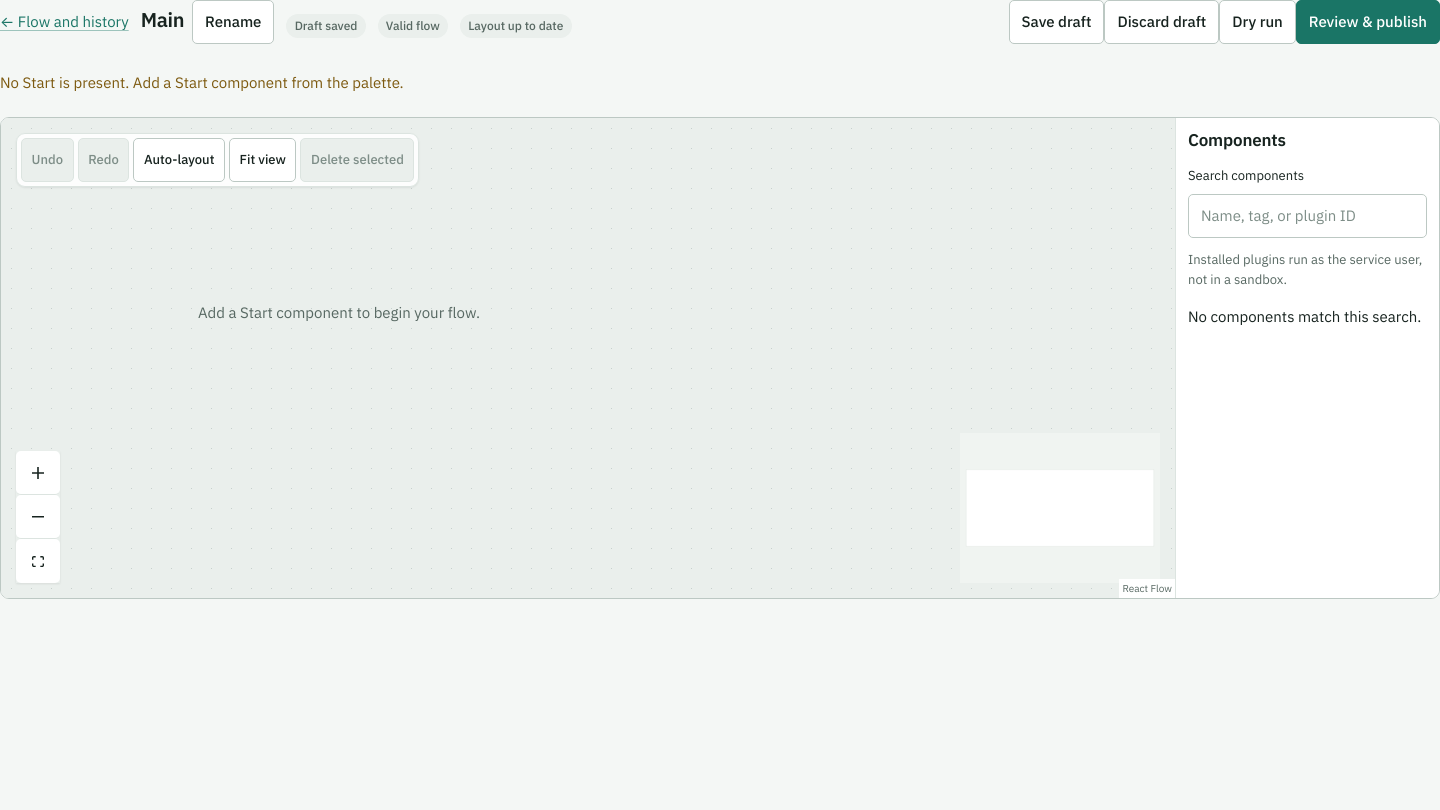
FlowEditor publish › clears the notice when the draft is saved, and a later clean publish shows none
This screenshot has width=1440, height=810.
Click the button "Review & publish". click: (1368, 22)
box: [1296,0,1439,44]
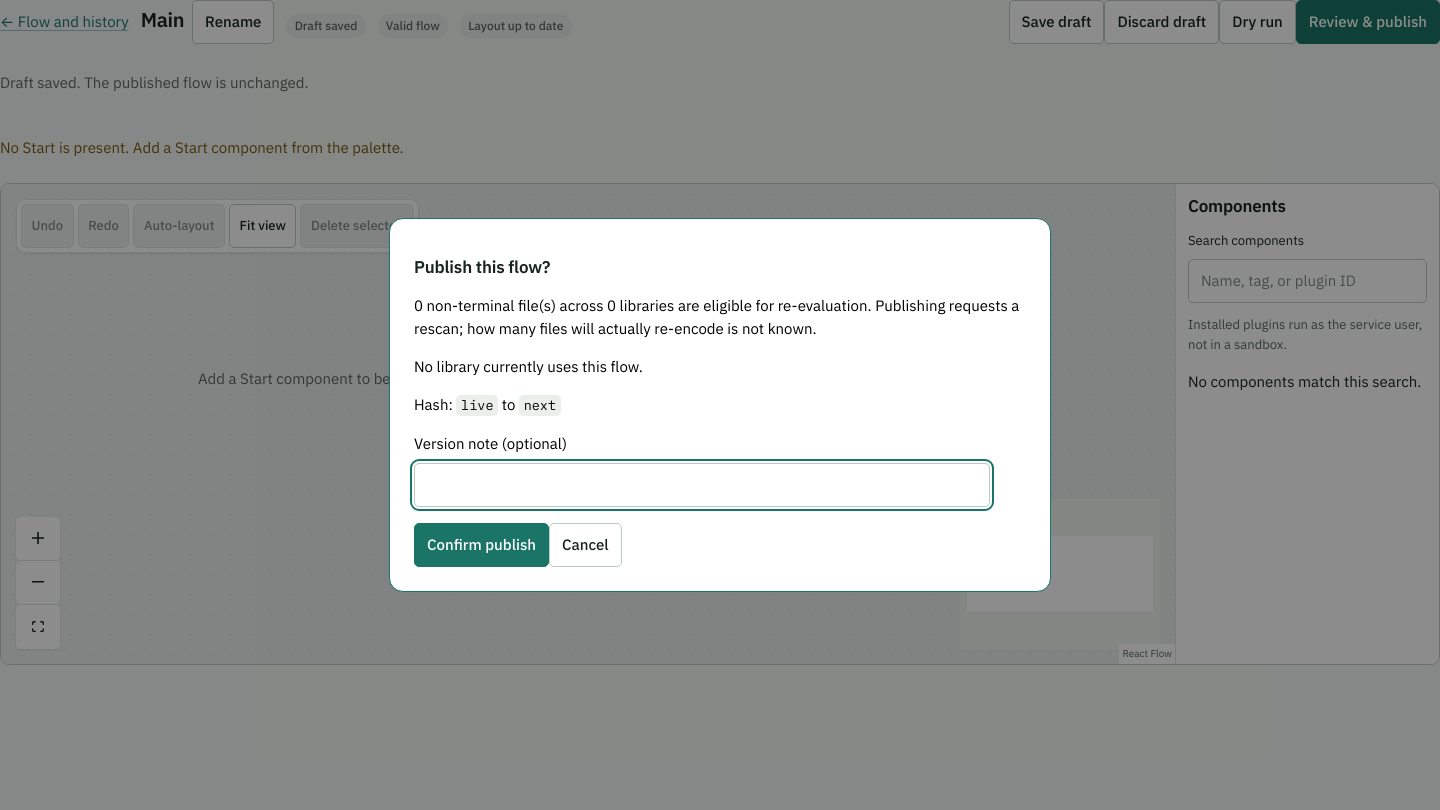
Expected: the text "Hash: live to next" is shown, [414,395,561,416]
Click the button "Confirm publish". click: (482, 545)
box: [414,523,549,567]
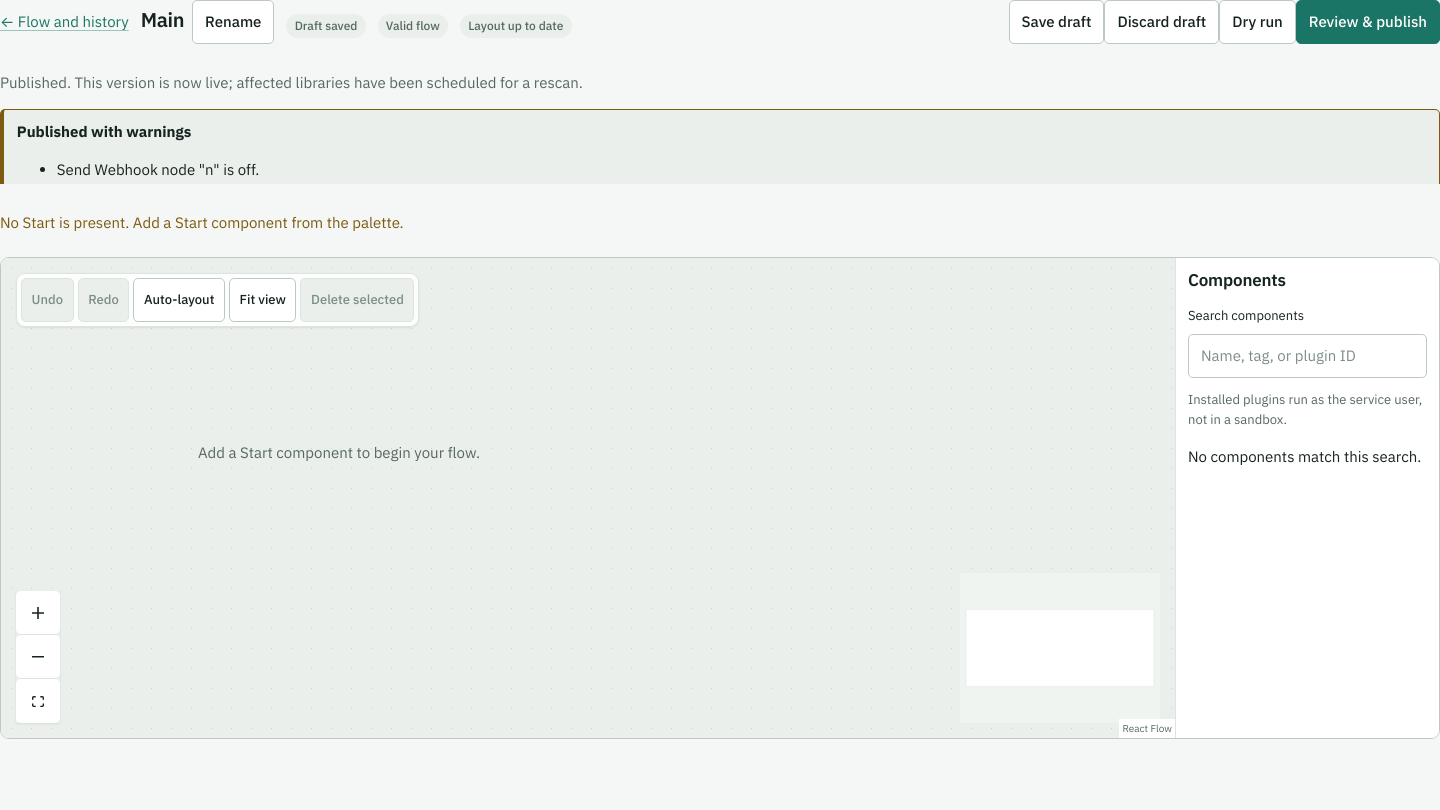
Expected: the element showing "Published with warnings Send Webhook node \"n\" is off." is shown, [0,109,1439,184]
Click the button "Save draft". click: (1056, 22)
box: [1009,0,1104,44]
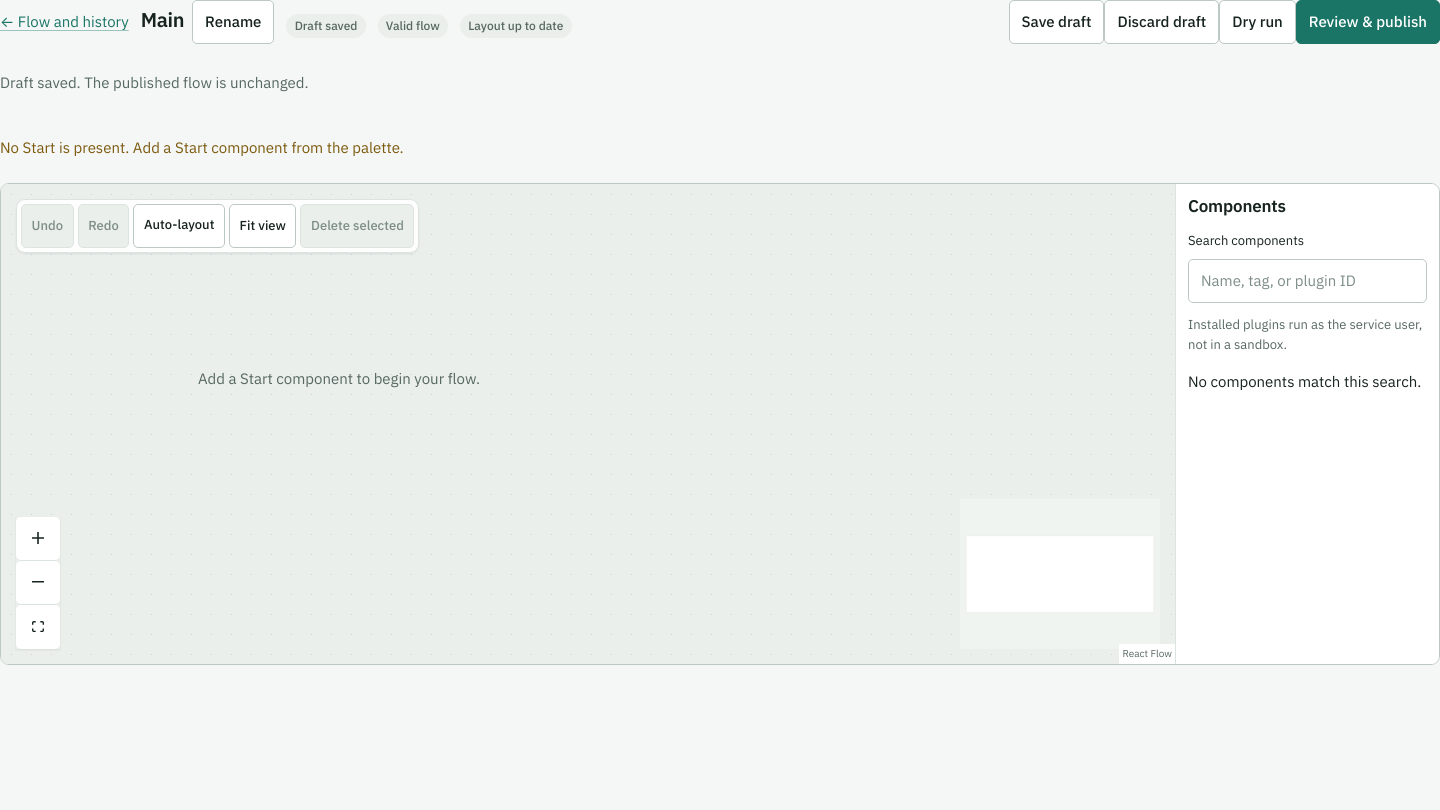
Expected: the text "Draft saved. The published flow is unchanged." is shown, [0,73,308,92]
Click the button "Review & publish". click: (1368, 22)
box: [1296,0,1439,44]
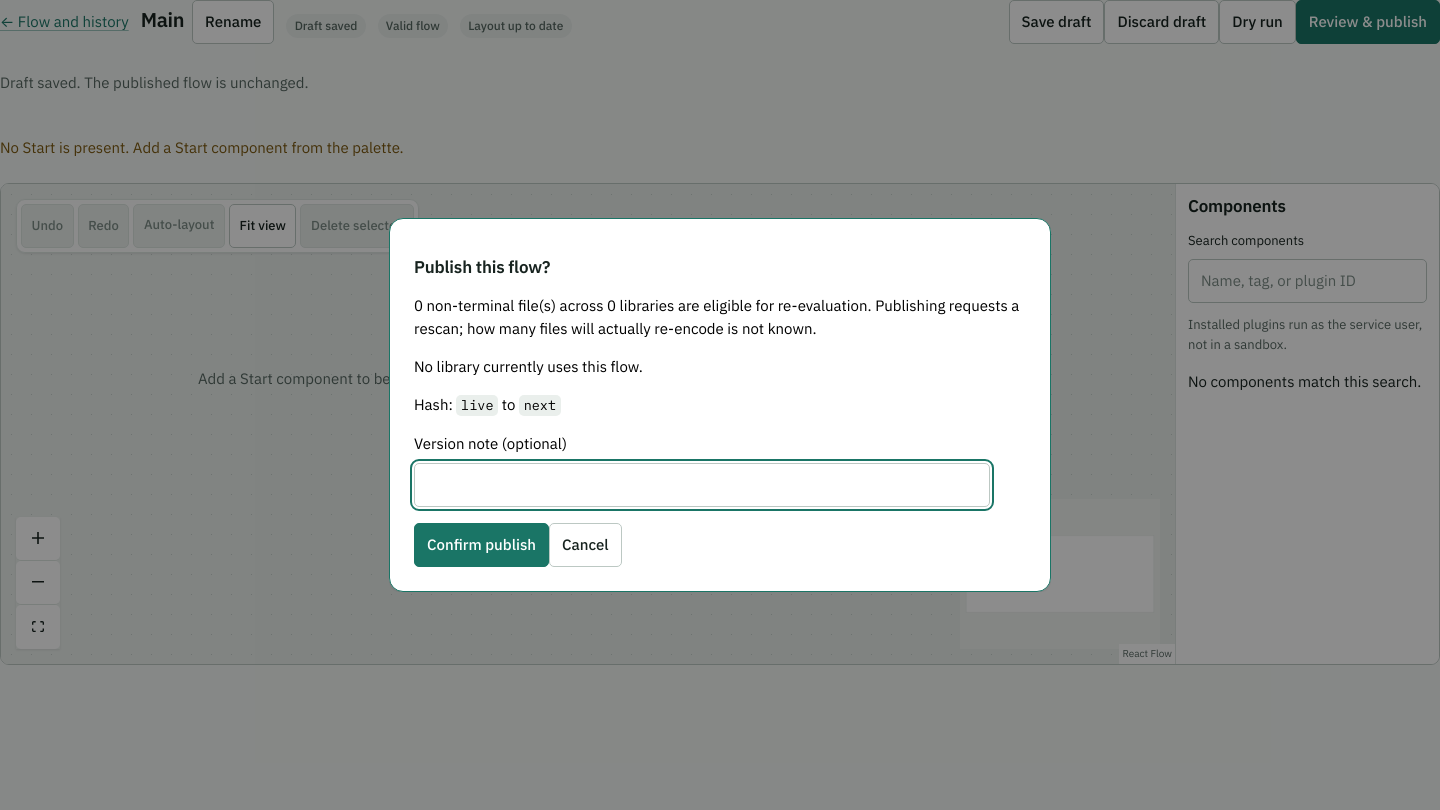
Click the button "Confirm publish". click: (482, 545)
box: [414,523,549,567]
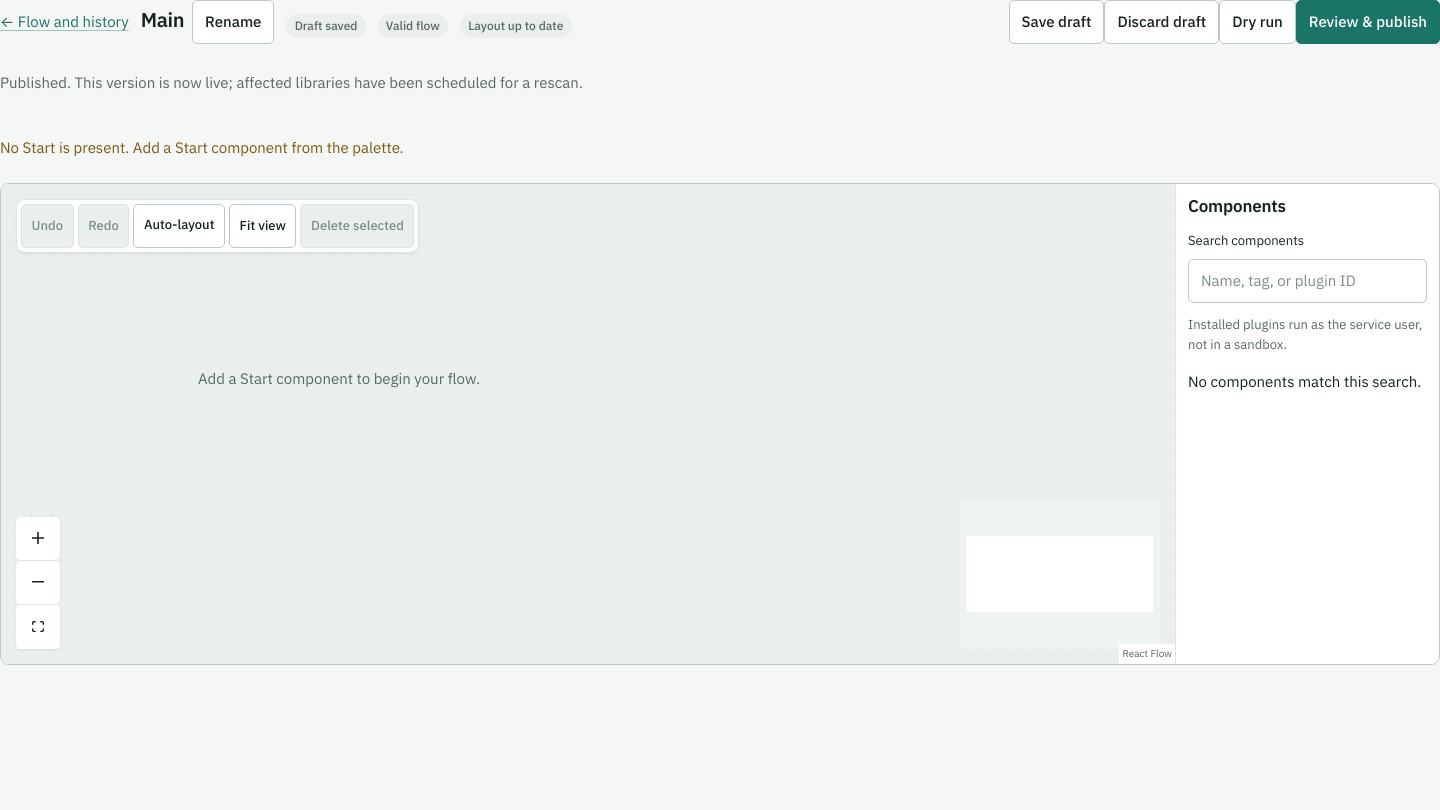
Expected: the text "Published. This version is now live" is shown, [0,73,583,92]
